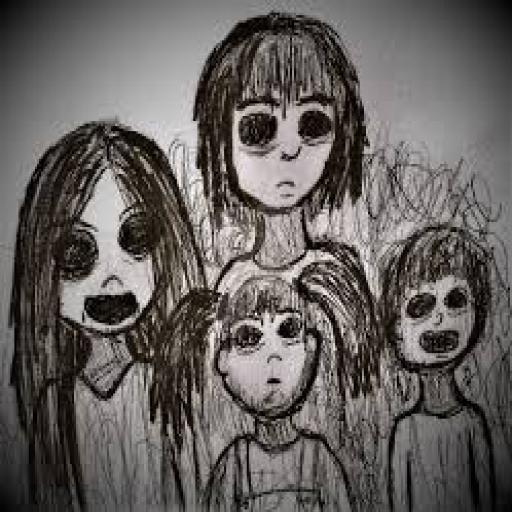person: (8, 113, 209, 512), (160, 261, 397, 512), (190, 11, 384, 286), (373, 221, 512, 512)
